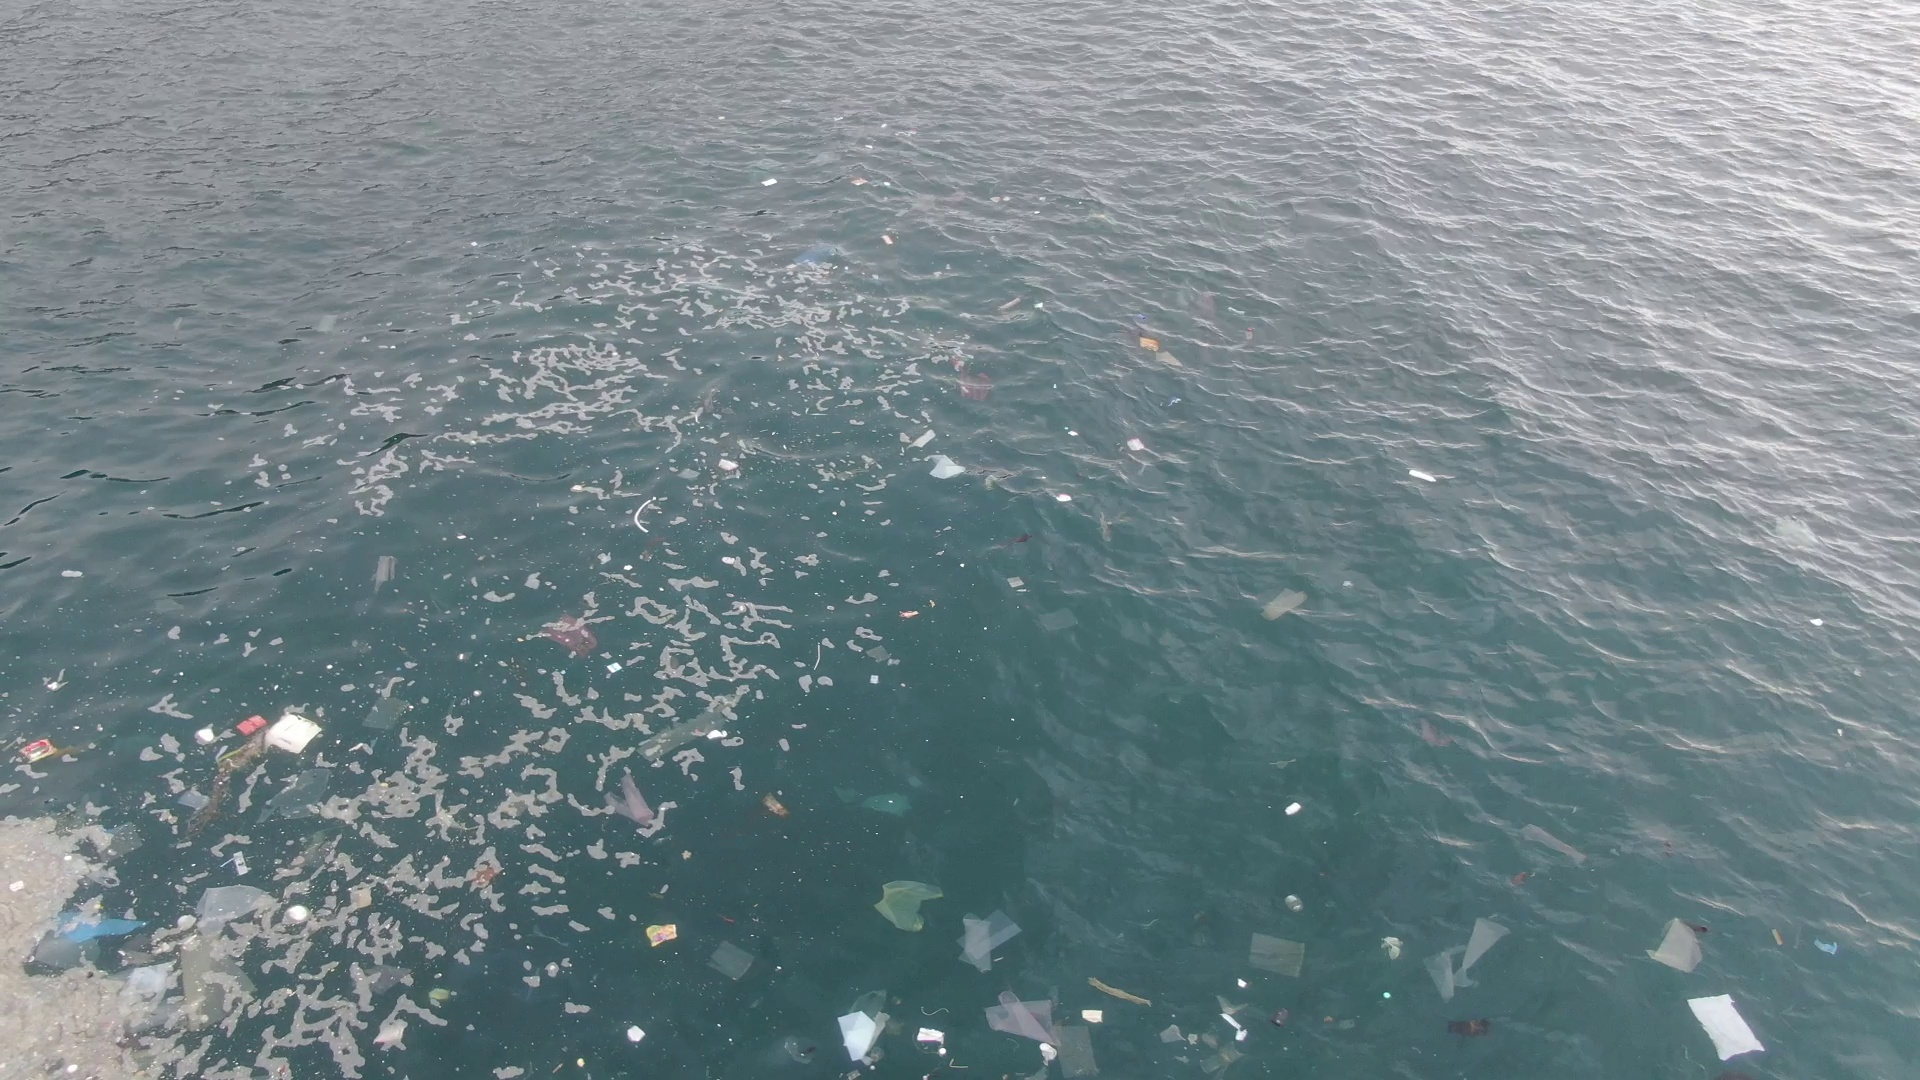garbage: (1382, 906, 1507, 1040), (182, 715, 320, 833), (171, 880, 272, 1029), (880, 877, 1018, 976), (982, 994, 1106, 1080), (1688, 996, 1768, 1062), (65, 899, 145, 952), (1241, 928, 1309, 981), (906, 425, 963, 483), (1654, 920, 1702, 977), (603, 774, 651, 831), (545, 617, 600, 661), (15, 731, 62, 774), (952, 357, 994, 406), (1266, 579, 1307, 626), (1139, 334, 1187, 375), (367, 698, 411, 736), (712, 944, 753, 981), (794, 233, 837, 268), (646, 919, 678, 949), (371, 554, 396, 589), (1805, 938, 1845, 957), (764, 793, 790, 822), (1408, 465, 1437, 487), (1126, 433, 1147, 454), (1282, 800, 1300, 818), (1000, 297, 1021, 310), (760, 177, 778, 187), (880, 232, 893, 247), (853, 175, 868, 187), (864, 141, 874, 149)
